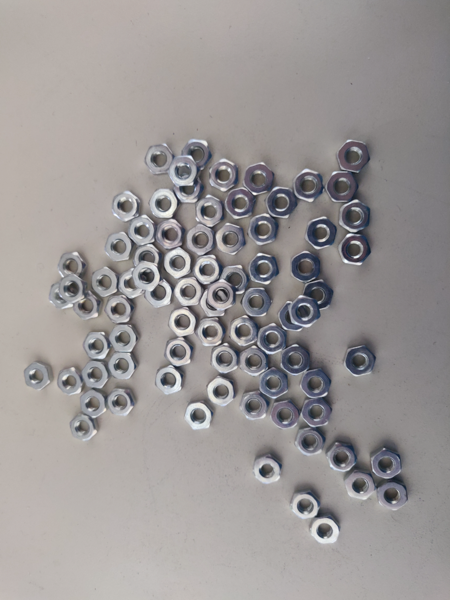nut: (303, 217, 337, 251), (256, 368, 289, 402), (336, 140, 371, 172), (264, 187, 297, 219), (343, 346, 377, 377), (326, 172, 358, 204), (216, 223, 248, 255), (339, 235, 372, 266), (224, 188, 255, 221), (181, 140, 214, 171), (290, 296, 321, 329), (280, 344, 313, 375), (340, 200, 370, 234), (244, 163, 275, 195), (290, 252, 322, 283), (248, 253, 279, 285), (300, 397, 332, 428), (239, 346, 269, 379), (310, 513, 340, 546), (373, 448, 402, 482), (303, 280, 334, 311), (241, 288, 273, 318), (300, 370, 332, 400), (379, 481, 409, 513), (327, 442, 357, 474), (209, 159, 238, 192), (293, 428, 326, 457), (248, 215, 278, 246), (257, 325, 288, 355), (290, 491, 321, 521), (173, 277, 203, 308), (170, 156, 199, 188), (295, 169, 323, 202), (253, 455, 283, 485), (164, 338, 194, 368), (112, 192, 142, 222), (169, 307, 198, 338), (188, 225, 217, 256), (195, 195, 223, 227), (105, 232, 133, 264), (185, 400, 214, 430), (196, 318, 225, 348), (221, 265, 250, 295), (133, 261, 162, 291), (156, 220, 185, 250), (272, 400, 300, 431), (208, 376, 236, 407), (92, 267, 119, 299), (146, 275, 172, 308), (69, 413, 98, 442), (149, 189, 178, 218), (104, 296, 133, 325), (156, 365, 184, 395), (24, 361, 52, 391), (346, 470, 373, 501), (230, 317, 257, 348), (164, 248, 191, 279), (193, 255, 220, 285), (146, 145, 172, 176), (209, 280, 235, 311), (59, 252, 87, 280), (58, 275, 86, 303), (241, 392, 268, 421), (211, 344, 238, 373), (108, 388, 135, 417), (109, 353, 137, 380), (50, 283, 77, 311), (110, 326, 139, 352), (73, 291, 99, 320), (129, 216, 154, 246), (82, 332, 109, 359), (56, 367, 82, 395), (119, 268, 142, 299), (83, 362, 109, 389), (80, 391, 106, 418), (279, 303, 304, 331), (200, 292, 227, 317), (172, 181, 202, 202), (134, 247, 160, 270)
